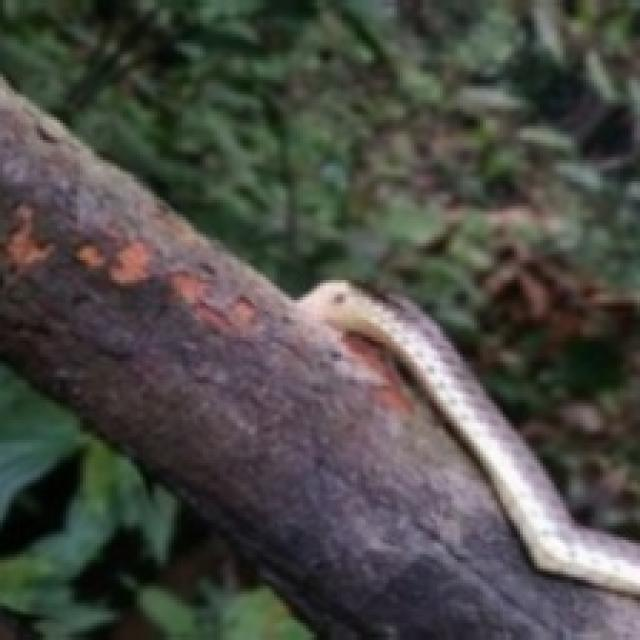paradise tree snake: (300, 280, 637, 594)
